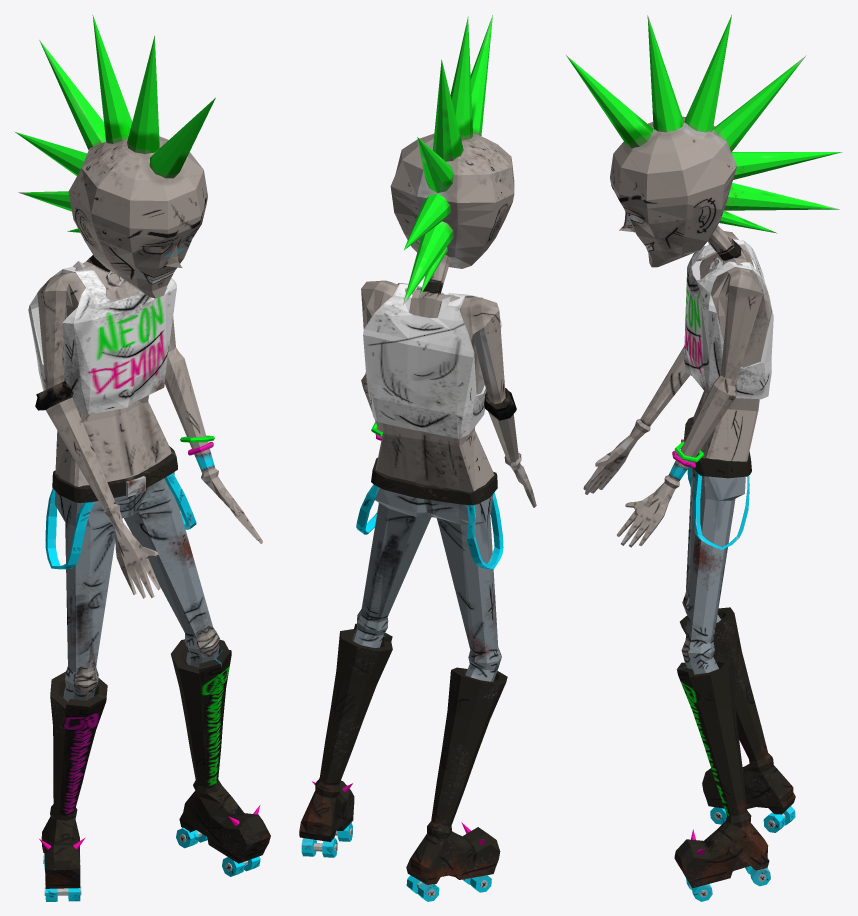
Rendered from punkAnimation_000034.obj.
The picture shows the model from 3 angles, left to right: view 1: azimuth 30°, elevation 25°; view 2: azimuth 150°, elevation 25°; view 3: azimuth 270°, elevation 25°; orthographic projection. The views are drawn at different scales.
Visible parts, largest first — view 1: Cube.004_Cube.003; view 2: Cube.004_Cube.003; view 3: Cube.004_Cube.003.
Part boxes in pixels (x1=…): Cube.004_Cube.003: x1=14, y1=15, x2=270, y2=901; Cube.004_Cube.003: x1=299, y1=15, x2=536, y2=901; Cube.004_Cube.003: x1=565, y1=15, x2=842, y2=901.
Bounding box in the file's own units: 1.96 × 7.5 × 2.28.
